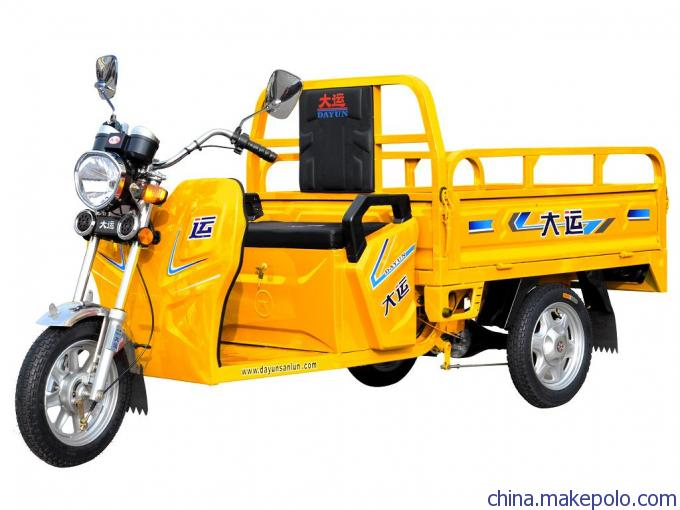tricycle: (22, 58, 666, 457)
